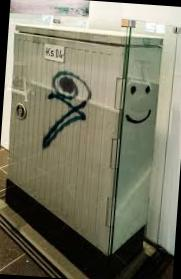graffiti: (41, 70, 89, 147), (124, 80, 155, 122)
